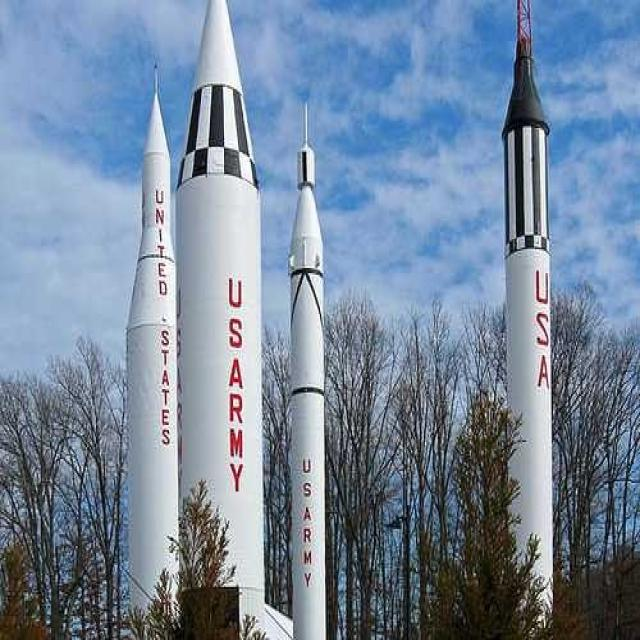missile: (177, 0, 264, 640), (498, 0, 558, 635), (123, 50, 189, 614), (284, 106, 332, 640)
